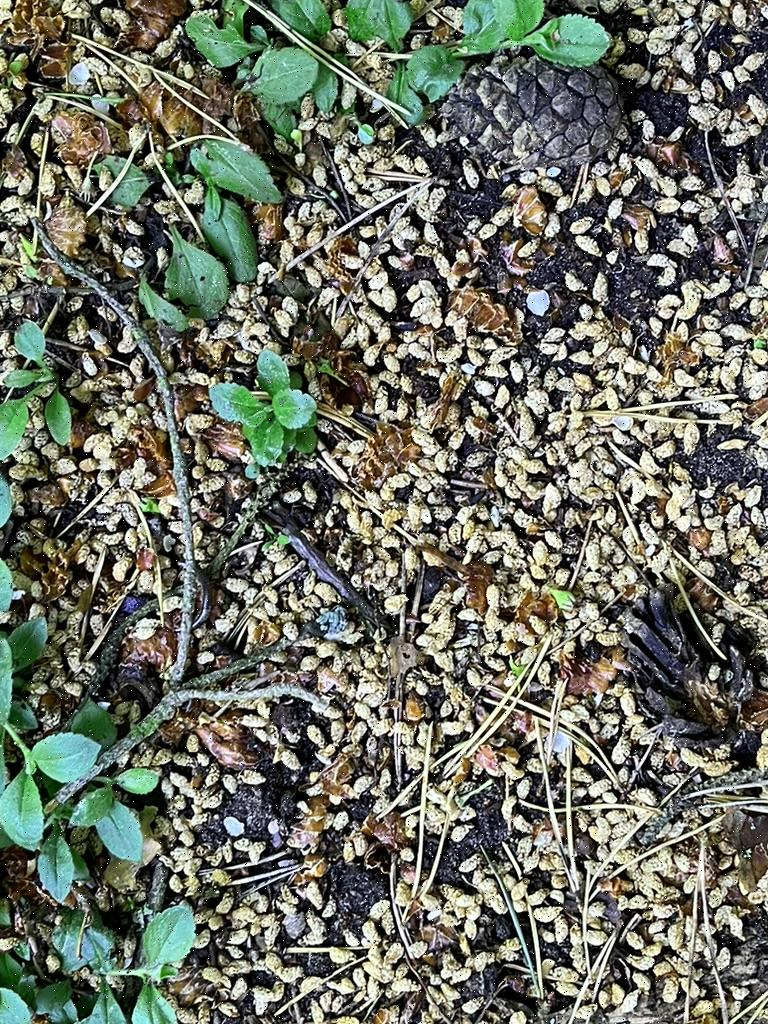pine: (606, 578, 768, 788), (444, 46, 648, 186)
